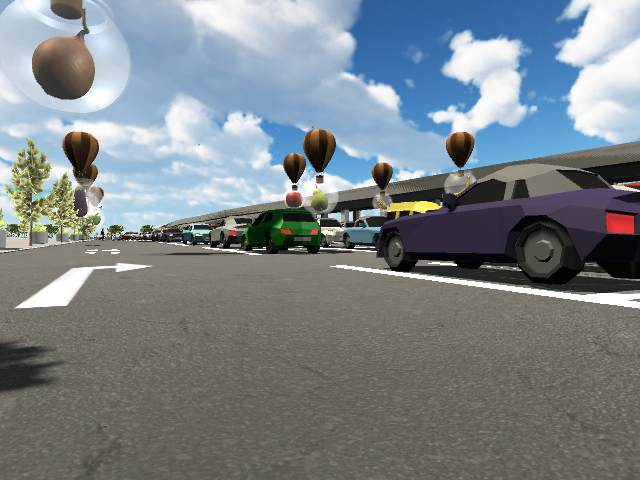ground_right: (68, 259, 155, 275)
